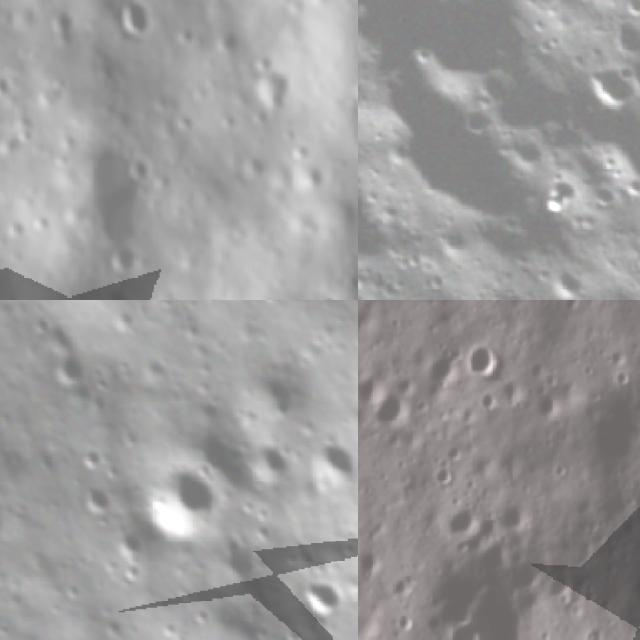crater: (382, 0, 547, 138), (558, 22, 640, 225), (124, 443, 236, 557), (429, 546, 550, 640), (358, 148, 417, 290), (568, 46, 640, 135), (192, 528, 268, 603), (291, 425, 358, 508), (284, 563, 356, 635), (232, 426, 304, 497), (483, 123, 551, 187), (523, 251, 594, 300), (46, 342, 104, 398), (448, 92, 499, 147), (463, 329, 511, 384), (597, 10, 640, 71), (73, 476, 124, 524), (367, 377, 412, 430), (417, 341, 460, 394), (106, 524, 150, 568), (114, 0, 151, 37), (104, 252, 137, 280)
